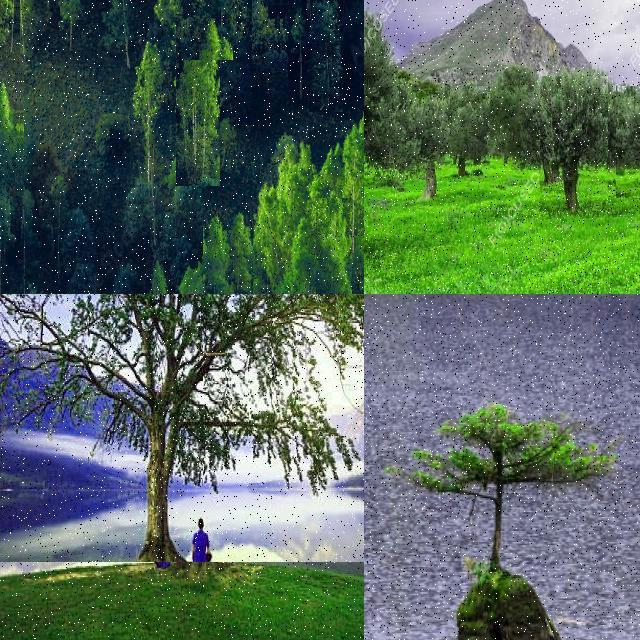tree: (0, 294, 364, 562), (409, 404, 607, 578), (364, 0, 448, 260), (540, 76, 608, 212), (256, 138, 316, 282), (176, 14, 220, 186), (130, 34, 167, 206), (0, 68, 24, 294), (492, 65, 544, 168), (403, 100, 453, 196), (309, 0, 343, 112), (450, 86, 490, 178), (252, 0, 288, 100), (316, 198, 352, 294), (181, 0, 233, 60), (26, 0, 62, 84), (66, 206, 100, 294), (165, 0, 207, 68), (0, 60, 20, 196), (290, 0, 338, 56), (616, 86, 640, 198), (8, 82, 34, 182), (0, 0, 20, 120), (0, 186, 22, 294), (203, 214, 231, 294), (227, 214, 253, 294), (108, 0, 142, 60), (252, 0, 280, 68), (0, 214, 22, 294), (344, 119, 364, 198), (0, 0, 24, 64), (1, 0, 20, 72), (56, 0, 80, 50), (0, 94, 12, 194), (8, 0, 32, 48), (0, 0, 18, 52), (0, 218, 12, 294), (0, 112, 12, 188), (146, 260, 170, 294), (0, 0, 20, 40)
